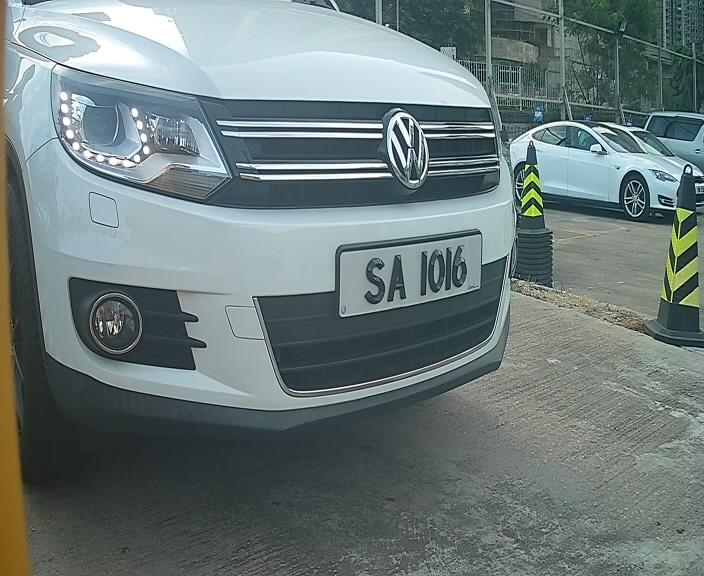Car: (13, 6, 595, 458)
License Plate: (331, 224, 491, 322)
